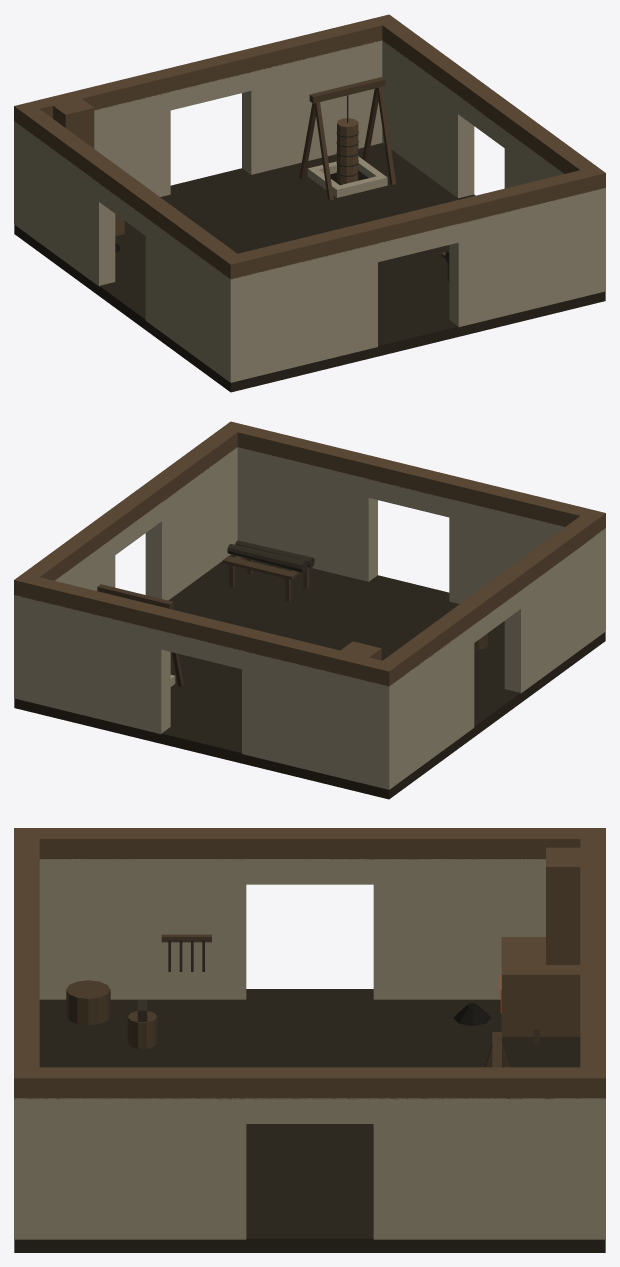
The model's file is LateGunFoundry.fbx.
The picture shows the model from 3 angles, top to bottom: view 1: azimuth 30°, elevation 25°; view 2: azimuth 150°, elevation 25°; view 3: azimuth 270°, elevation 25°; orthographic projection. The views are drawn at different scales.
Parts seen in each view (by area): view 1: LateGunFoundry; view 2: LateGunFoundry; view 3: LateGunFoundry.
Boxes of the visible parts, <box> form: LateGunFoundry: <box>14,14,605,392</box>; LateGunFoundry: <box>14,421,605,799</box>; LateGunFoundry: <box>14,828,605,1252</box>.
Size of the model in its own units: 1202 by 392 by 1202.
8 materials, 8 textured.
